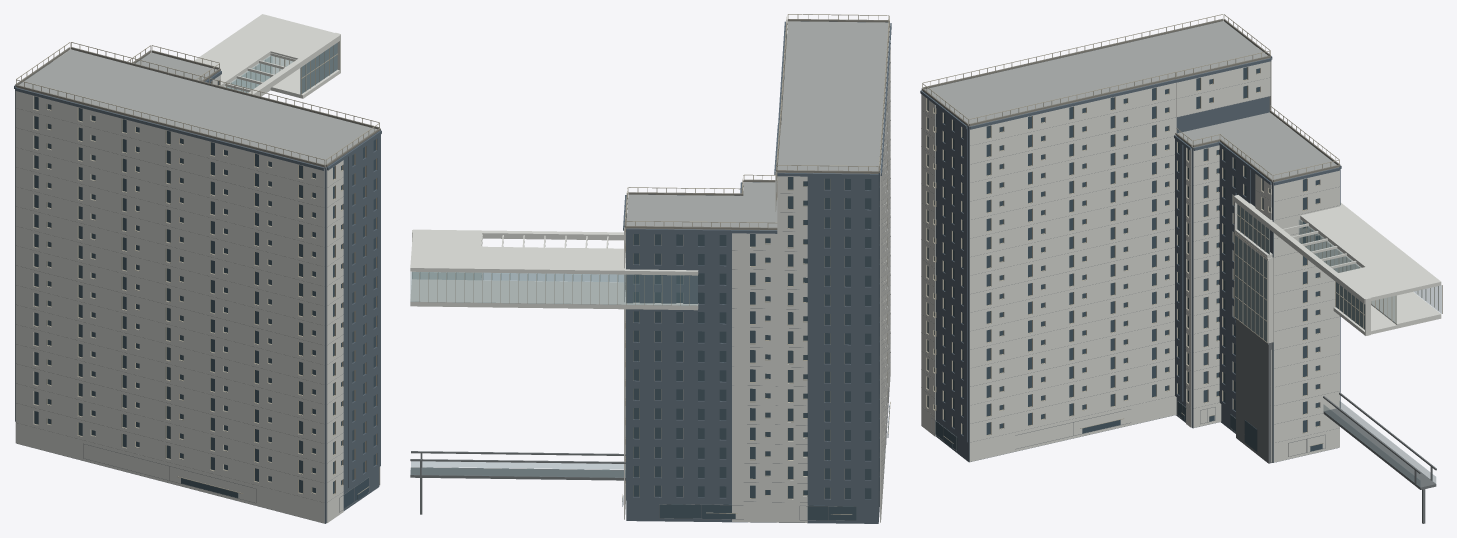
Rendered from bespoke-raemian-onebailey-123.glb.
3 renders of one model, left to right at view 1: azimuth 30°, elevation 25°; view 2: azimuth 150°, elevation 25°; view 3: azimuth 270°, elevation 25°, orthographic. The views are drawn at different scales.
Visible parts, largest first — view 1: 123_authored_massing006_1, 123_setback_roof_and_bridge_bracing006_4, 123_authored_massing006, 123_observed_facade_bays006_1, 123_observed_facade_bays006_2, 123_authored_massing006_2, 123_setback_roof_and_bridge_bracing006, 123_observed_facade_bays006, 123_observed_facade_bays006_6; view 2: 123_authored_massing006, 123_authored_massing006_1, 123_setback_roof_and_bridge_bracing006_4, 123_observed_facade_bays006_1, 123_observed_facade_bays006_6, 123_observed_facade_bays006_2, 123_authored_massing006_2, 123_setback_roof_and_bridge_bracing006; view 3: 123_authored_massing006_1, 123_authored_massing006, 123_setback_roof_and_bridge_bracing006_4, 123_observed_facade_bays006_1, 123_observed_facade_bays006_2, 123_authored_massing006_2, 123_observed_facade_bays006, 123_observed_facade_bays006_6, 123_setback_roof_and_bridge_bracing006.
Boxes of the visible parts, x1=… form: 123_authored_massing006_1: x1=15, y1=14, x2=380, y2=523; 123_setback_roof_and_bridge_bracing006_4: x1=17, y1=49, x2=376, y2=167; 123_authored_massing006: x1=14, y1=51, x2=381, y2=523; 123_observed_facade_bays006_1: x1=34, y1=81, x2=375, y2=508; 123_observed_facade_bays006_2: x1=16, y1=42, x2=379, y2=495; 123_authored_massing006_2: x1=16, y1=108, x2=369, y2=512; 123_setback_roof_and_bridge_bracing006: x1=15, y1=47, x2=380, y2=166; 123_observed_facade_bays006: x1=300, y1=43, x2=337, y2=94; 123_observed_facade_bays006_6: x1=225, y1=56, x2=292, y2=92; 123_authored_massing006: x1=623, y1=21, x2=891, y2=523; 123_authored_massing006_1: x1=410, y1=24, x2=890, y2=522; 123_setback_roof_and_bridge_bracing006_4: x1=626, y1=21, x2=888, y2=230; 123_observed_facade_bays006_1: x1=622, y1=35, x2=889, y2=520; 123_observed_facade_bays006_6: x1=410, y1=272, x2=697, y2=477; 123_observed_facade_bays006_2: x1=419, y1=14, x2=890, y2=514; 123_authored_massing006_2: x1=410, y1=43, x2=890, y2=520; 123_setback_roof_and_bridge_bracing006: x1=624, y1=19, x2=889, y2=229; 123_authored_massing006_1: x1=921, y1=48, x2=1441, y2=462; 123_authored_massing006: x1=920, y1=21, x2=1341, y2=462; 123_setback_roof_and_bridge_bracing006_4: x1=925, y1=21, x2=1338, y2=182; 123_observed_facade_bays006_1: x1=927, y1=67, x2=1322, y2=451; 123_observed_facade_bays006_2: x1=922, y1=14, x2=1442, y2=446; 123_authored_massing006_2: x1=921, y1=77, x2=1436, y2=523; 123_observed_facade_bays006: x1=1235, y1=204, x2=1364, y2=342; 123_observed_facade_bays006_6: x1=1299, y1=219, x2=1441, y2=486; 123_setback_roof_and_bridge_bracing006: x1=921, y1=18, x2=1340, y2=181.
Bounding box in the file's own units: 65.63 × 56.85 × 78.33.
